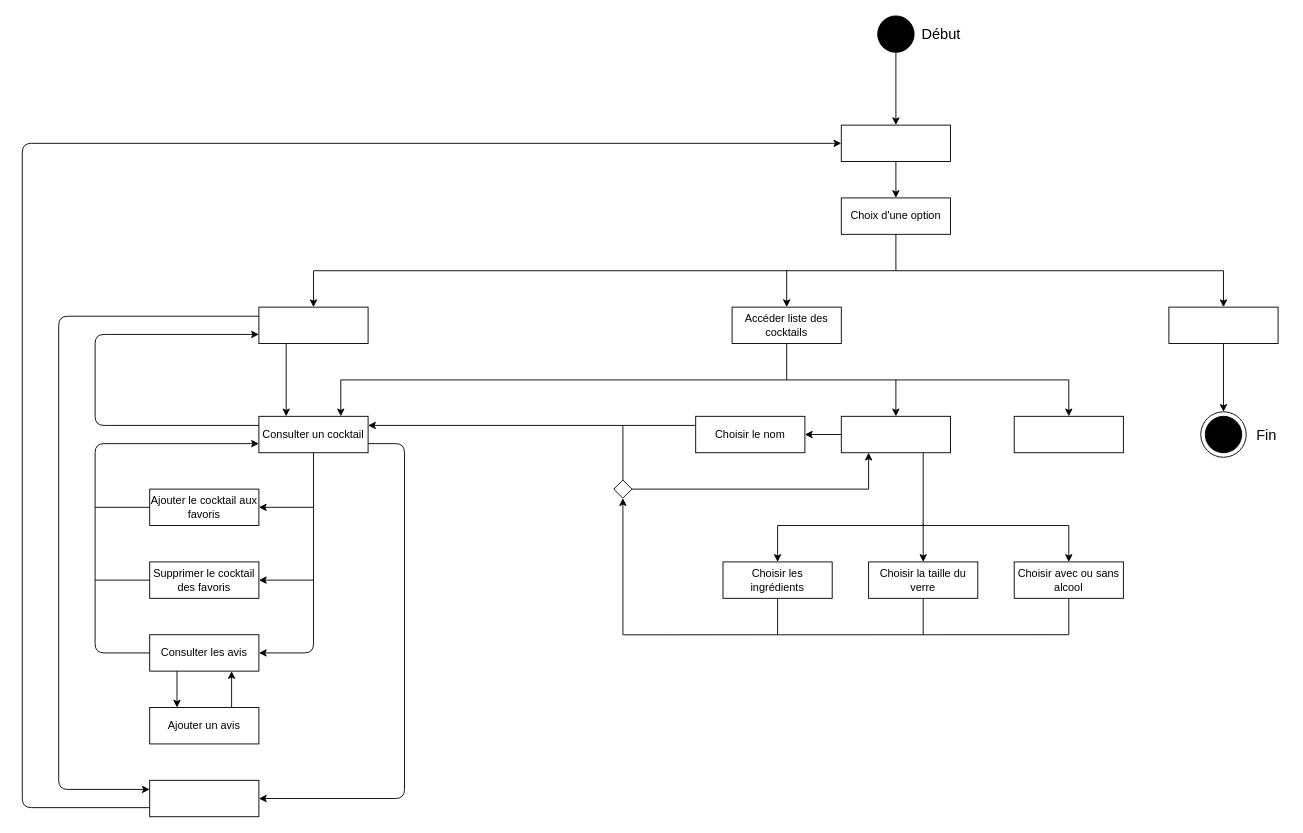
Image size: 1303x833. Some labels were removed from this diagram. The shapes that lost their labels are listed below. From the top down, each one's centre as x and y in pixels, then its label:
the point at 895,143: Affichage menu visiteur
the point at 313,325: Accéder à la liste de favoris
the point at 1223,325: Quitter l'application
the point at 895,434: Affiner la recherche
the point at 1068,434: Suggérer un nouveau cocktail
the point at 204,798: Menu visiteur
